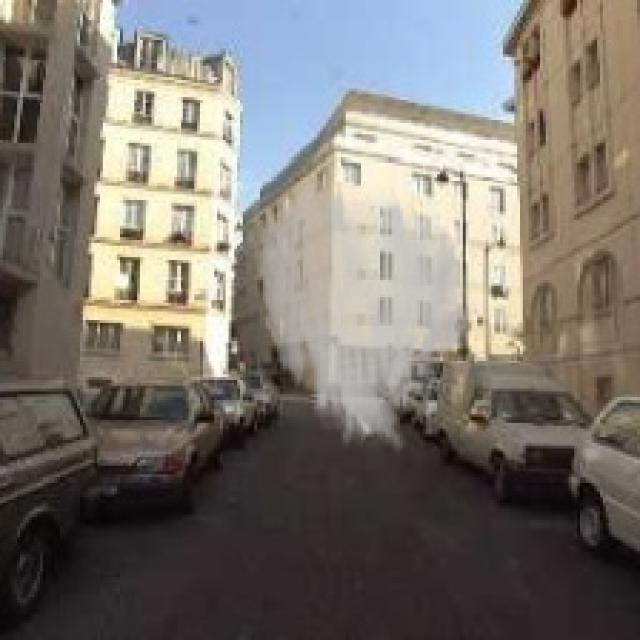Smoke: (255, 174, 474, 457)
